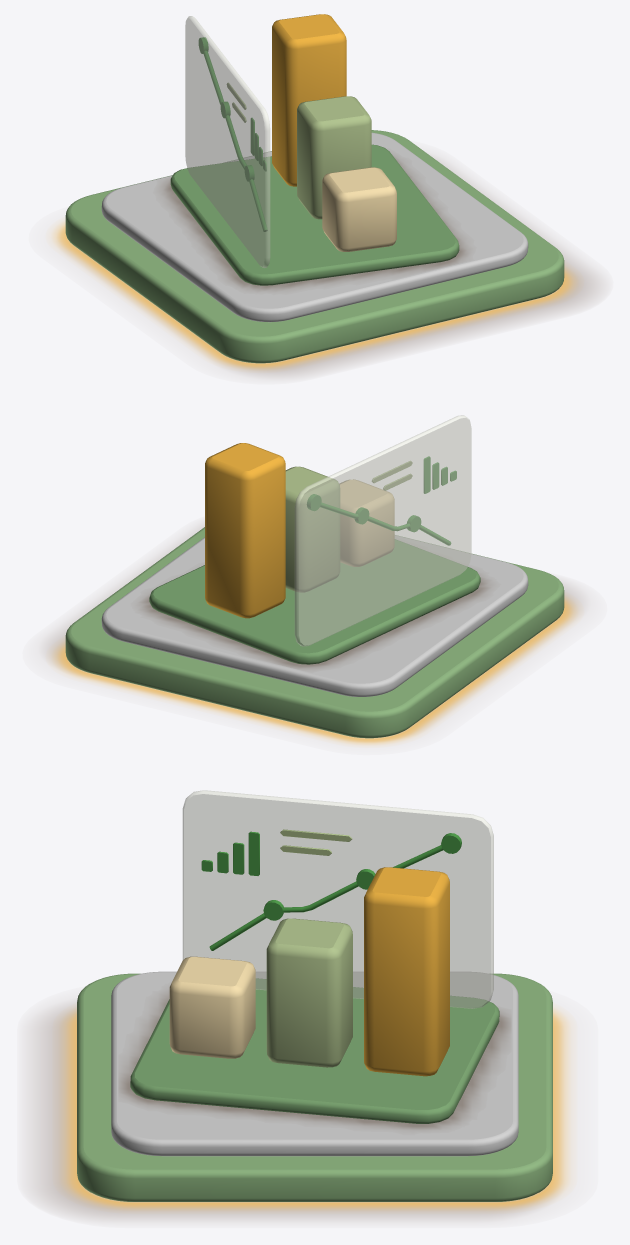
Rendered from analytics.glb.
3 renders of one model, top to bottom at view 1: azimuth 30°, elevation 25°; view 2: azimuth 150°, elevation 25°; view 3: azimuth 270°, elevation 25°, orthographic. The views are drawn at different scales.
Visible parts, largest first — view 1: Plinth_Outer, Plinth_Inner, Analytics_Tier, Panel_Glass, Bar_High, Fx_ContactShadow, Bar_Mid, Bar_Low, Fx_FloorGlow, Fx_AmbientOcclusion, Chart_Line, Chart_Details; view 2: Panel_Glass, Plinth_Outer, Plinth_Inner, Analytics_Tier, Bar_High, Bar_Mid, Fx_FloorGlow, Bar_Low, Fx_AmbientOcclusion, Fx_ContactShadow, Chart_Line, Chart_Details; view 3: Panel_Glass, Plinth_Outer, Plinth_Inner, Analytics_Tier, Bar_High, Fx_ContactShadow, Bar_Mid, Fx_FloorGlow, Bar_Low, Fx_AmbientOcclusion, Chart_Line, Chart_Details.
Boxes of the visible parts, x1=… form: Plinth_Outer: x1=65, y1=130, x2=564, y2=363; Plinth_Inner: x1=101, y1=132, x2=528, y2=322; Analytics_Tier: x1=170, y1=144, x2=459, y2=285; Panel_Glass: x1=185, y1=16, x2=270, y2=267; Bar_High: x1=272, y1=14, x2=346, y2=186; Fx_ContactShadow: x1=77, y1=157, x2=601, y2=377; Bar_Mid: x1=297, y1=96, x2=371, y2=219; Bar_Low: x1=322, y1=167, x2=396, y2=251; Fx_FloorGlow: x1=53, y1=221, x2=576, y2=369; Fx_AmbientOcclusion: x1=162, y1=156, x2=468, y2=290; Chart_Line: x1=199, y1=37, x2=267, y2=231; Chart_Details: x1=227, y1=83, x2=266, y2=171; Panel_Glass: x1=294, y1=415, x2=471, y2=646; Plinth_Outer: x1=65, y1=527, x2=564, y2=738; Plinth_Inner: x1=101, y1=535, x2=528, y2=696; Analytics_Tier: x1=149, y1=539, x2=480, y2=664; Bar_High: x1=205, y1=443, x2=285, y2=618; Bar_Mid: x1=285, y1=466, x2=339, y2=592; Fx_FloorGlow: x1=53, y1=596, x2=576, y2=744; Bar_Low: x1=339, y1=479, x2=394, y2=566; Fx_AmbientOcclusion: x1=140, y1=574, x2=489, y2=668; Fx_ContactShadow: x1=43, y1=524, x2=584, y2=731; Chart_Line: x1=307, y1=494, x2=450, y2=545; Chart_Details: x1=372, y1=456, x2=456, y2=493; Panel_Glass: x1=182, y1=790, x2=493, y2=1008; Plinth_Outer: x1=77, y1=973, x2=552, y2=1201; Plinth_Inner: x1=111, y1=971, x2=518, y2=1156; Analytics_Tier: x1=130, y1=978, x2=499, y2=1123; Bar_High: x1=364, y1=867, x2=449, y2=1076; Fx_ContactShadow: x1=32, y1=1001, x2=548, y2=1219; Bar_Mid: x1=266, y1=918, x2=352, y2=1067; Fx_FloorGlow: x1=61, y1=1008, x2=568, y2=1210; Bar_Low: x1=169, y1=956, x2=255, y2=1058; Fx_AmbientOcclusion: x1=119, y1=991, x2=510, y2=1129; Chart_Line: x1=209, y1=833, x2=461, y2=950; Chart_Details: x1=201, y1=829, x2=352, y2=875.
Size of the model in its own units: 5.82 by 2.72 by 5.82.
